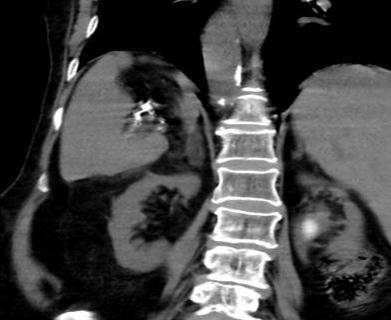Tas_Var: (294, 217, 322, 245)
